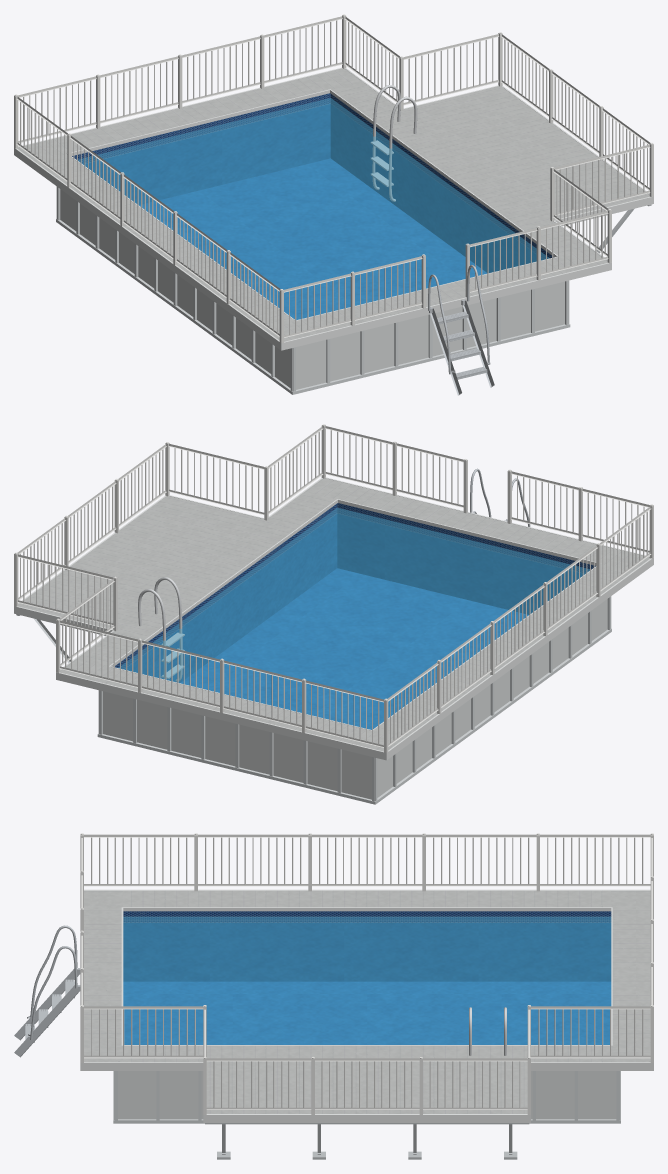
The model's file is kayak-pool-16x24-white-t-ag-fence.08a27bec54.glb.
3 renders of one model, top to bottom at view 1: azimuth 30°, elevation 25°; view 2: azimuth 150°, elevation 25°; view 3: azimuth 270°, elevation 25°, orthographic. The views are drawn at different scales.
Visible parts, largest first — view 1: water, deck, fence, liner_floor, liner_wall, wall, fascia, upright, ladder, steel; view 2: water, deck, fence, liner_floor, liner_wall, wall, fascia, upright, steel; view 3: water, deck, liner_wall, liner_floor, fence, fascia, wall, ladder, upright, stud.
Part boxes in pixels (left/top/right/bottom): water: left=78, top=98, right=549, bottom=319; deck: left=17, top=68, right=649, bottom=341; fence: left=14, top=14, right=653, bottom=343; liner_floor: left=139, top=158, right=486, bottom=319; liner_wall: left=72, top=93, right=553, bottom=272; wall: left=60, top=189, right=564, bottom=389; fascia: left=14, top=67, right=653, bottom=350; upright: left=56, top=186, right=570, bottom=394; ladder: left=428, top=265, right=494, bottom=395; steel: left=370, top=85, right=417, bottom=201; water: left=118, top=507, right=589, bottom=729; deck: left=18, top=478, right=650, bottom=751; fence: left=14, top=424, right=653, bottom=752; liner_floor: left=180, top=568, right=528, bottom=729; liner_wall: left=115, top=503, right=595, bottom=682; wall: left=103, top=599, right=607, bottom=799; fascia: left=14, top=477, right=653, bottom=760; upright: left=97, top=596, right=611, bottom=804; steel: left=138, top=577, right=184, bottom=681; water: left=123, top=916, right=611, bottom=1044; deck: left=84, top=890, right=650, bottom=1113; liner_wall: left=123, top=911, right=611, bottom=981; liner_floor: left=123, top=981, right=611, bottom=1044; fence: left=80, top=833, right=653, bottom=1114; fascia: left=80, top=889, right=653, bottom=1122; wall: left=118, top=1071, right=616, bottom=1119; ladder: left=14, top=925, right=80, bottom=1057; upright: left=113, top=1071, right=620, bottom=1123; stud: left=205, top=1123, right=529, bottom=1159.
Size of the model in its own units: 7.93 by 2.15 by 9.52.
11 materials, 3 textured.
